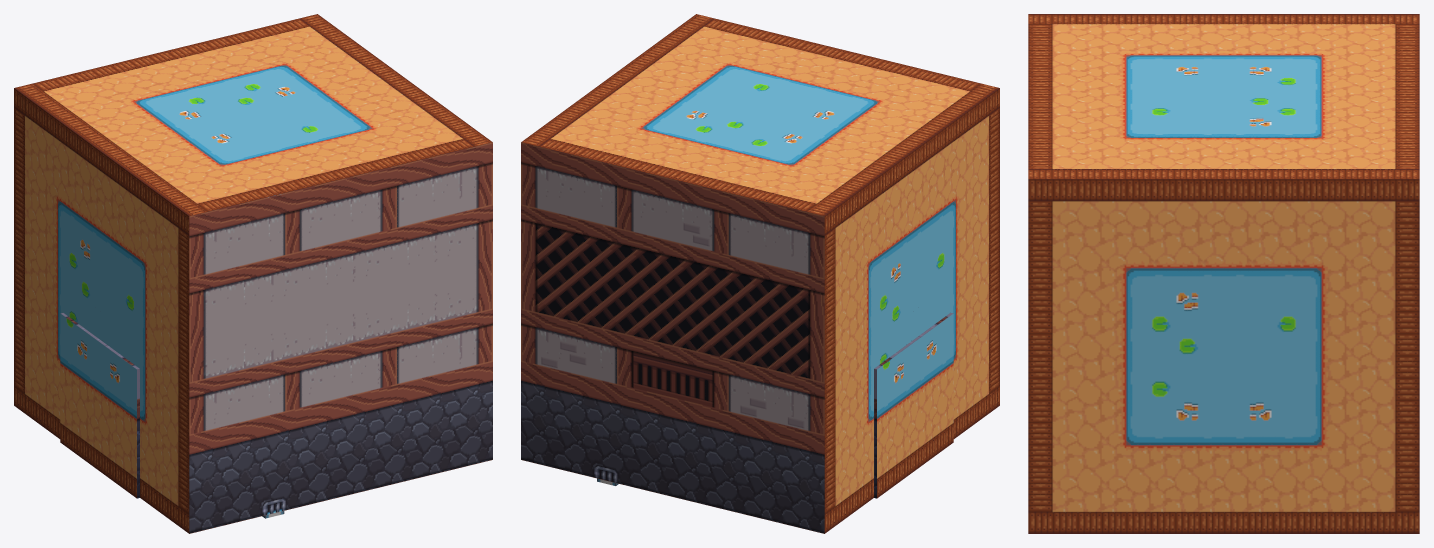
3 renders of one model, left to right at view 1: azimuth 30°, elevation 25°; view 2: azimuth 150°, elevation 25°; view 3: azimuth 270°, elevation 25°, orthographic. The views are drawn at different scales.
Visible parts, largest first — view 1: Left, Front, Top, Object003; view 2: Right, Front, Top, Object003; view 3: Back, Top.
Boxes of the visible parts, x1=… form: Left: x1=189, y1=142, x2=492, y2=533; Front: x1=14, y1=88, x2=189, y2=533; Top: x1=14, y1=14, x2=492, y2=216; Object003: x1=60, y1=312, x2=139, y2=498; Right: x1=521, y1=142, x2=824, y2=533; Front: x1=824, y1=88, x2=999, y2=533; Top: x1=521, y1=14, x2=999, y2=216; Object003: x1=874, y1=312, x2=953, y2=498; Back: x1=1028, y1=179, x2=1419, y2=533; Top: x1=1028, y1=14, x2=1419, y2=179.
Bounding box in the file's own units: 101 × 100 × 101.
Materials: 7 (7 with a texture image).
